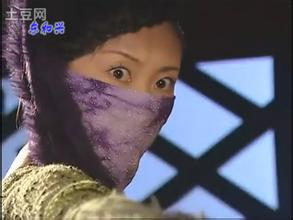OK: (62, 44, 182, 171)
